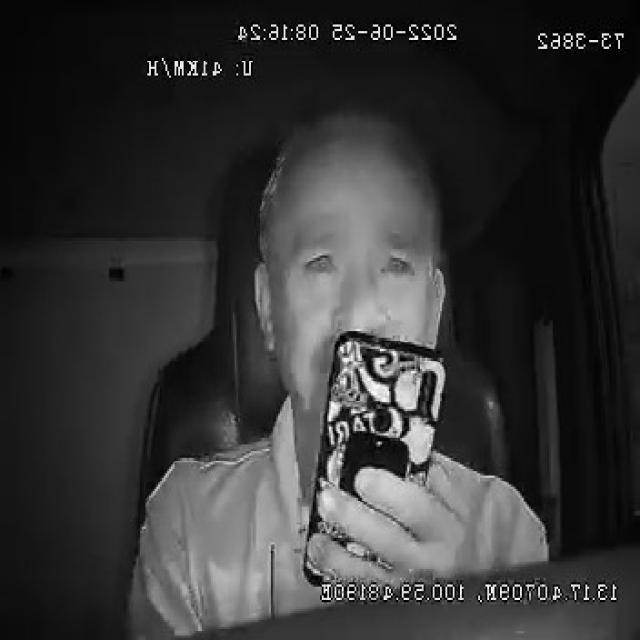phone: (304, 330, 449, 583)
